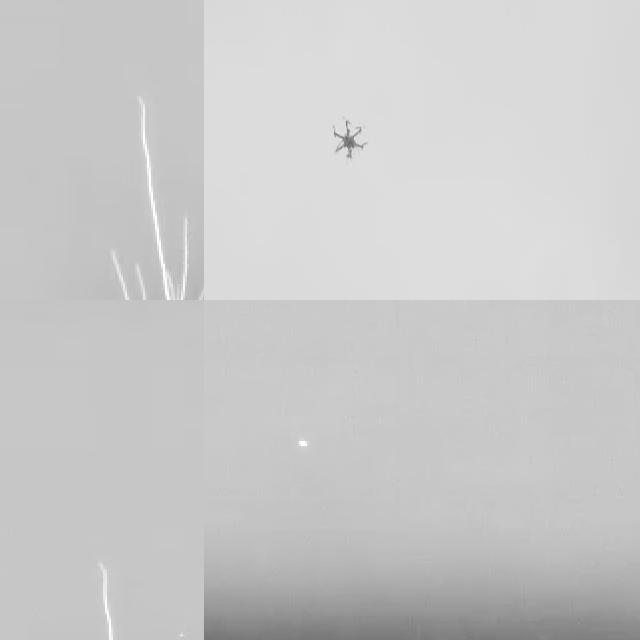0: (164, 624, 194, 640)
1: (287, 433, 313, 461)
drone: (330, 114, 372, 168)
